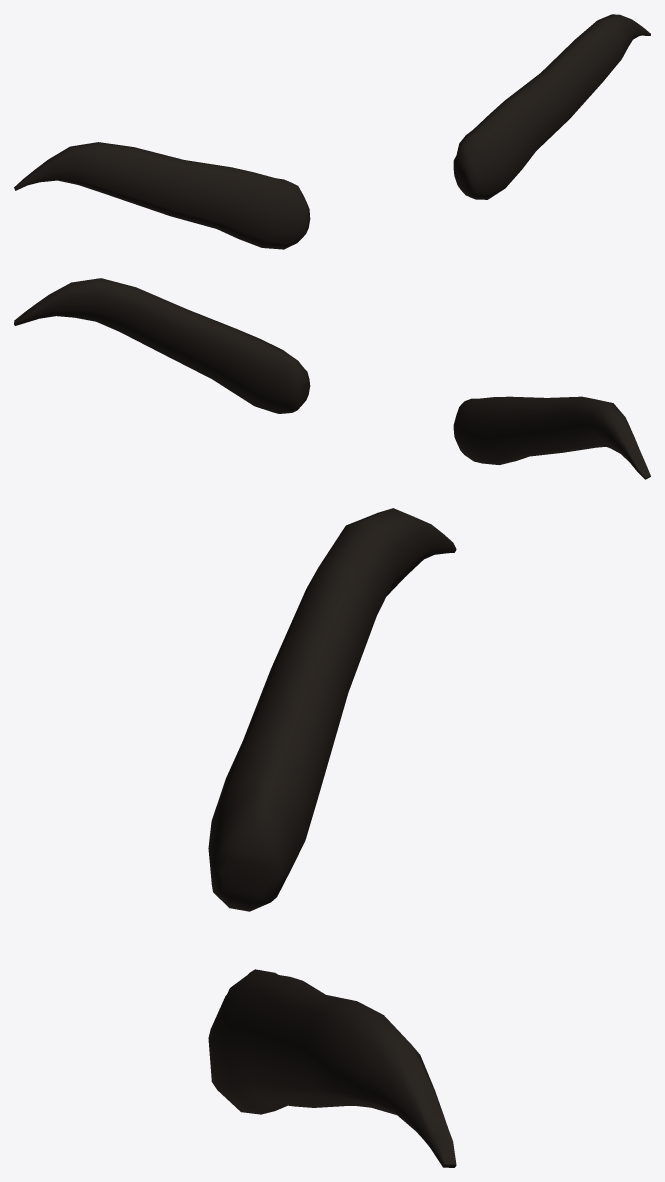
The model's file is Eyebrows_02_01.fbx.
3 views of the same model, one above another, from view 1: azimuth 30°, elevation 25°; view 2: azimuth 150°, elevation 25°; view 3: azimuth 270°, elevation 25° (orthographic). The views are drawn at different scales.
Visible parts, largest first — view 1: Eyebrows_02_01; view 2: Eyebrows_02_01; view 3: Eyebrows_02_01.
Part boxes in pixels (x1,y1,x2,y2): Eyebrows_02_01: (14, 14, 650, 249); Eyebrows_02_01: (14, 278, 650, 479); Eyebrows_02_01: (208, 508, 456, 1167).
Bounding box in the file's own units: 18.03 × 3.24 × 3.04.
